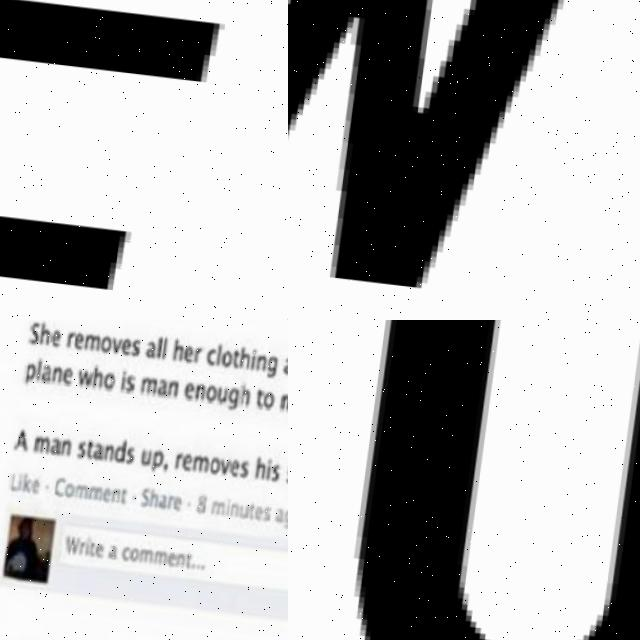8: (196, 492, 208, 513)
A: (14, 426, 30, 449), (91, 440, 105, 460), (145, 338, 158, 358), (49, 435, 62, 455), (40, 363, 52, 382), (156, 375, 168, 394), (109, 541, 121, 560), (158, 492, 170, 508), (276, 504, 286, 523), (280, 354, 288, 373)
C: (54, 475, 67, 496), (206, 345, 218, 364), (123, 544, 131, 560)
D: (114, 437, 127, 462)
E: (72, 330, 85, 349), (49, 327, 61, 347), (183, 378, 195, 398), (120, 335, 132, 354), (183, 343, 195, 362), (61, 366, 73, 385), (182, 450, 194, 469), (172, 492, 184, 509), (95, 540, 107, 557), (230, 456, 240, 475), (101, 485, 112, 501), (167, 549, 178, 565), (31, 476, 41, 492), (255, 503, 265, 519)
F: (0, 0, 226, 320)
G: (265, 352, 278, 377), (227, 384, 240, 409), (284, 505, 288, 526)
H: (238, 342, 251, 367), (92, 363, 105, 386), (240, 380, 252, 404), (38, 320, 50, 343), (256, 453, 267, 478), (172, 336, 185, 357), (150, 485, 161, 506)
I: (119, 368, 126, 390), (266, 456, 273, 477), (250, 346, 257, 366), (225, 496, 232, 514), (85, 534, 91, 554), (18, 472, 24, 490)
K: (23, 472, 32, 491)
L: (9, 470, 20, 491), (36, 356, 44, 380), (161, 333, 168, 357), (215, 341, 222, 364), (156, 333, 162, 357)
M: (191, 450, 212, 470), (84, 330, 101, 349), (141, 374, 158, 393), (34, 432, 51, 451), (211, 497, 227, 513), (89, 483, 104, 500), (74, 482, 90, 497), (140, 546, 155, 562), (154, 548, 169, 564), (279, 389, 288, 409)
N: (59, 436, 74, 455), (51, 364, 63, 384), (167, 378, 179, 397), (194, 380, 206, 399), (103, 441, 115, 460), (254, 352, 267, 368), (175, 550, 188, 566), (230, 500, 242, 516), (111, 486, 122, 502)
O: (262, 388, 277, 407), (102, 371, 116, 390), (208, 453, 222, 472), (205, 381, 218, 400), (220, 348, 233, 366), (100, 333, 112, 352), (64, 480, 76, 496), (129, 545, 141, 561)
P: (153, 447, 166, 470), (23, 362, 36, 384)
R: (193, 343, 204, 362), (65, 330, 75, 347), (176, 449, 184, 468), (168, 493, 175, 508), (81, 539, 88, 554)
S: (29, 320, 41, 342), (124, 373, 137, 392), (124, 443, 137, 462), (239, 457, 252, 476), (140, 485, 151, 506), (271, 460, 281, 482), (130, 335, 140, 356), (78, 438, 88, 457), (264, 502, 273, 522)
T: (232, 347, 241, 366), (256, 386, 264, 405), (87, 438, 95, 457), (185, 550, 193, 569), (248, 501, 257, 517), (120, 486, 128, 502), (89, 539, 97, 555)
U: (327, 320, 640, 640), (216, 382, 229, 401), (141, 446, 154, 465), (240, 502, 250, 517)
V: (219, 454, 232, 474), (111, 335, 123, 352)
W: (288, 0, 640, 312), (76, 366, 93, 385), (65, 534, 82, 553)
